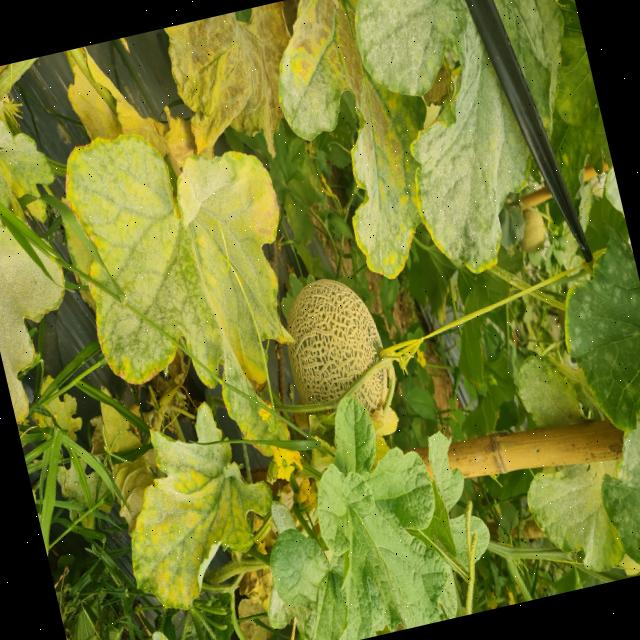melon: (286, 278, 381, 405), (354, 369, 387, 412)
